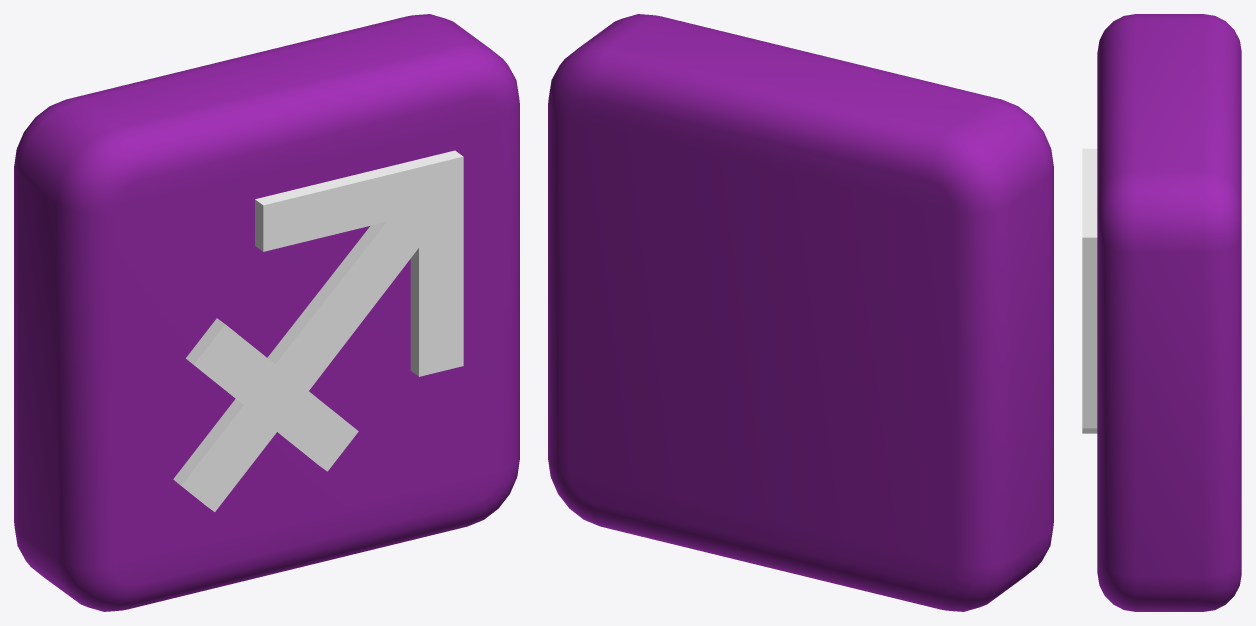
Rendered from sagittarius.gltf.
The picture shows the model from 3 angles, left to right: view 1: azimuth 30°, elevation 25°; view 2: azimuth 150°, elevation 25°; view 3: azimuth 270°, elevation 25°; orthographic projection. The views are drawn at different scales.
Visible parts, largest first — view 1: Cube.6407; view 2: Cube.6407; view 3: Cube.6407.
Part boxes in pixels (x1,y1,x2,y2): Cube.6407: [14, 14, 519, 611]; Cube.6407: [548, 14, 1053, 611]; Cube.6407: [1082, 14, 1241, 611].
Bounding box in the file's own units: 2.2 × 2.2 × 0.73.
1 material, 1 textured.
